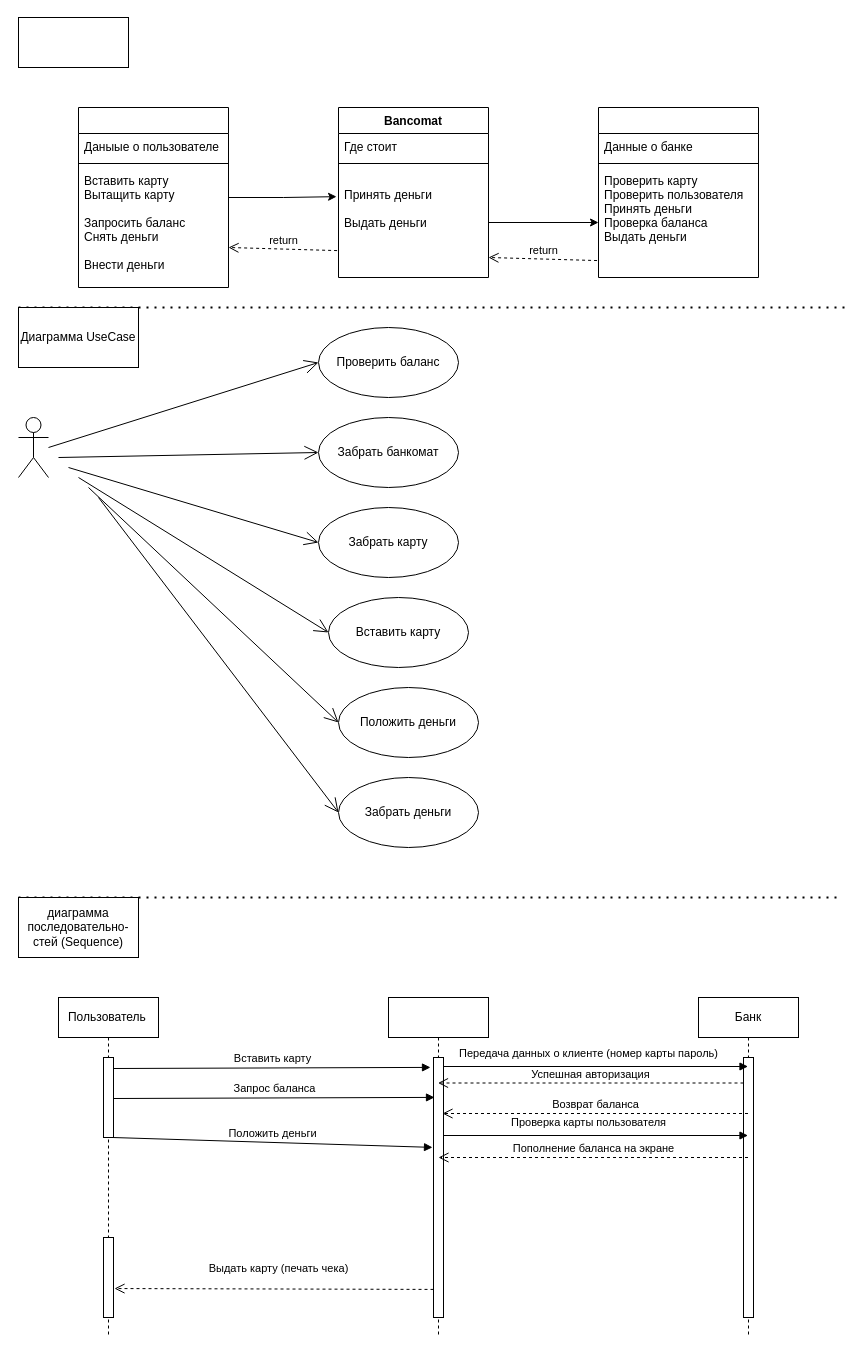
Image size: 867x1355. Some labels were removed from this diagram. Each missing label, with the box of its shape:
Actor: (18, 416, 48, 478)
Bank: (598, 106, 758, 278)
User: (78, 106, 228, 288)
Банкомат: (388, 996, 488, 1338)
Диаграмма Class: (18, 16, 128, 68)
